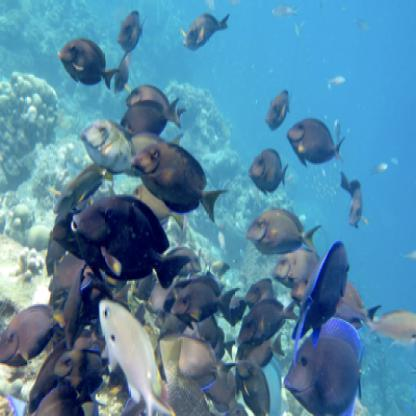surgeon: (69, 189, 191, 291), (130, 138, 231, 224), (294, 238, 351, 363), (2, 302, 72, 370), (171, 276, 241, 330), (244, 209, 323, 256), (55, 35, 121, 91), (237, 298, 302, 345), (126, 82, 186, 129), (286, 119, 345, 166), (119, 95, 181, 138), (235, 357, 271, 414), (179, 10, 231, 49), (249, 148, 290, 197), (276, 248, 326, 288), (340, 169, 370, 230), (114, 7, 148, 52), (263, 88, 293, 130)
